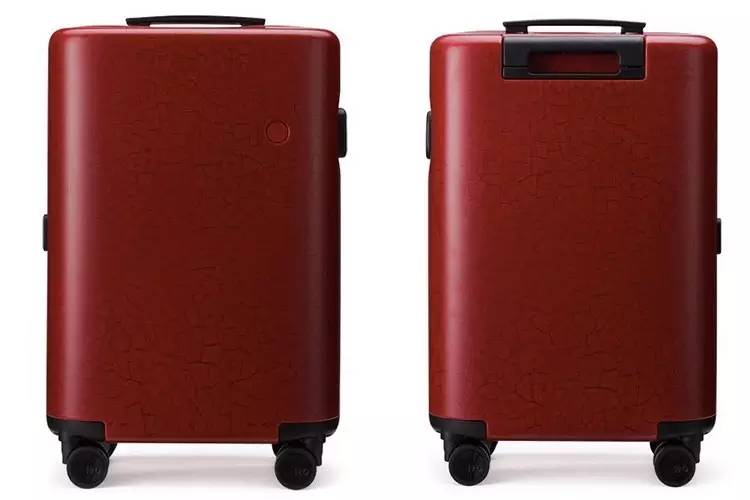suitcase: (39, 12, 350, 490), (415, 11, 726, 489)
